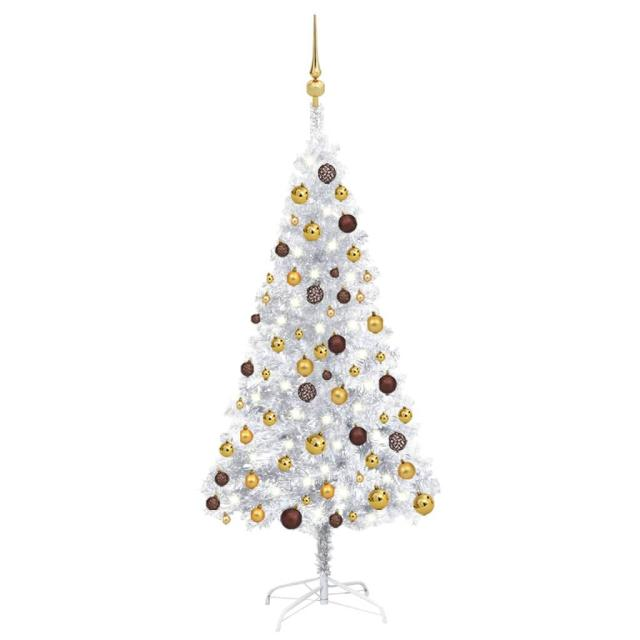Christmas-tree: (195, 3, 455, 538)
